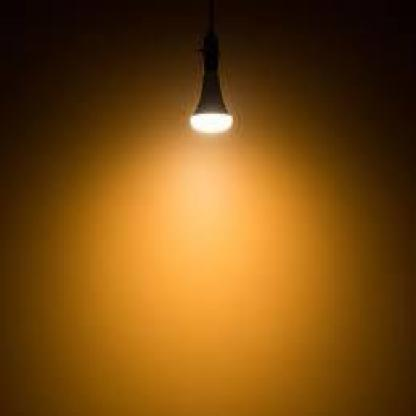other: (116, 109, 302, 360)
